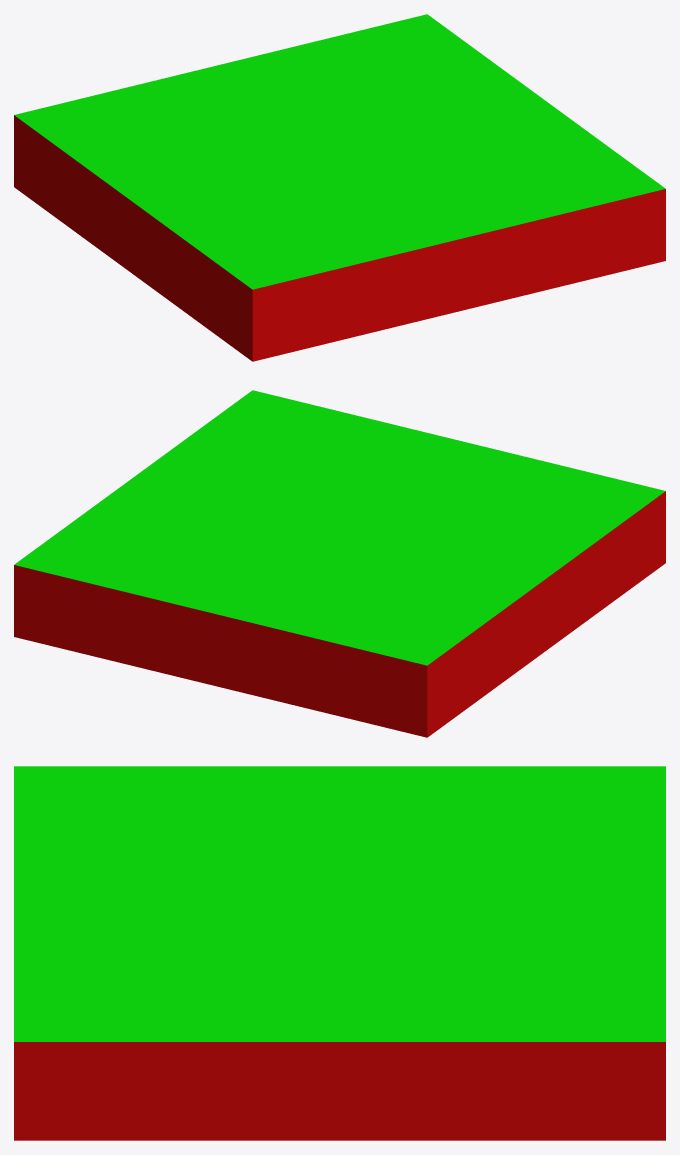
File: 6x6Block.fbx
3 renders of one model, top to bottom at view 1: azimuth 30°, elevation 25°; view 2: azimuth 150°, elevation 25°; view 3: azimuth 270°, elevation 25°, orthographic. The views are drawn at different scales.
Visible parts, largest first — view 1: pCube4; view 2: pCube4; view 3: pCube4.
Boxes of the visible parts, x1=… form: pCube4: x1=14, y1=14, x2=665, y2=361; pCube4: x1=14, y1=390, x2=665, y2=737; pCube4: x1=14, y1=766, x2=665, y2=1140.
Size of the model in its own units: 6 by 1 by 6.
